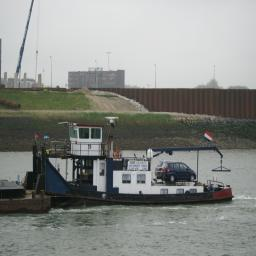tugboat: (22, 116, 237, 213)
